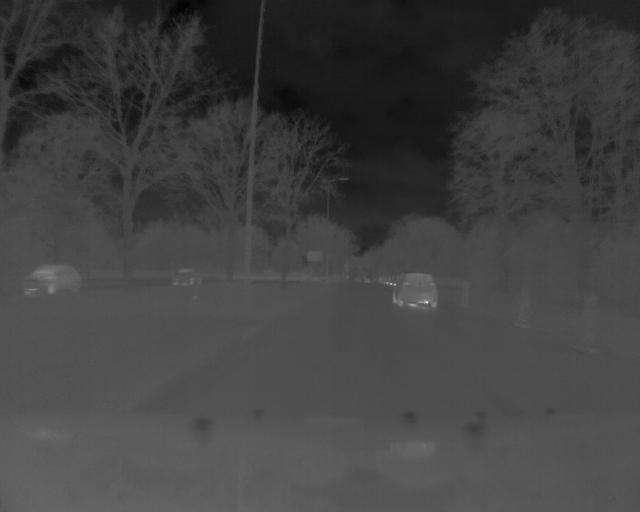car: (18, 261, 84, 295), (392, 271, 440, 308), (166, 266, 201, 286)
